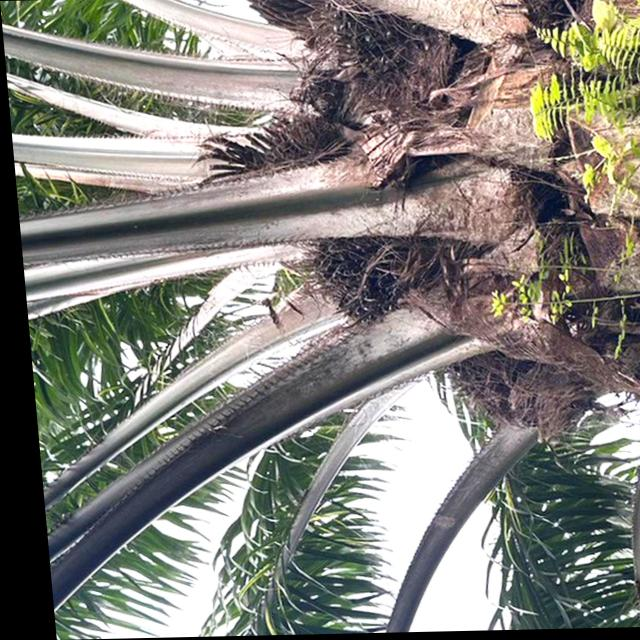unripe: (285, 222, 434, 341)
